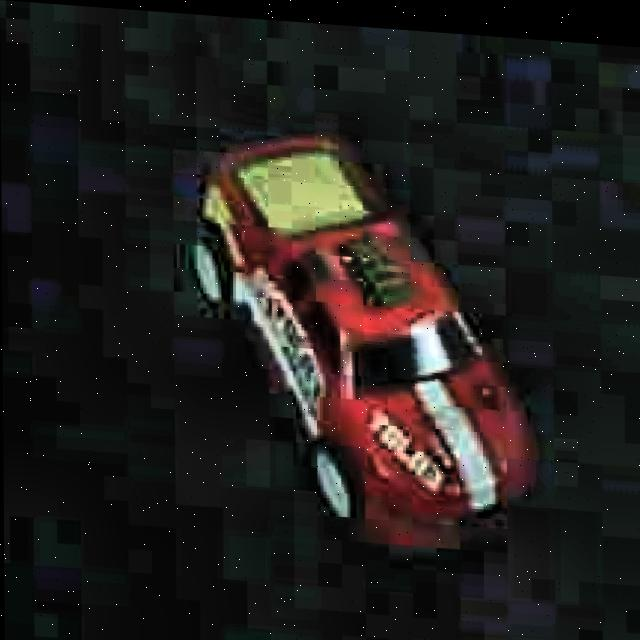car: (186, 98, 553, 563)
